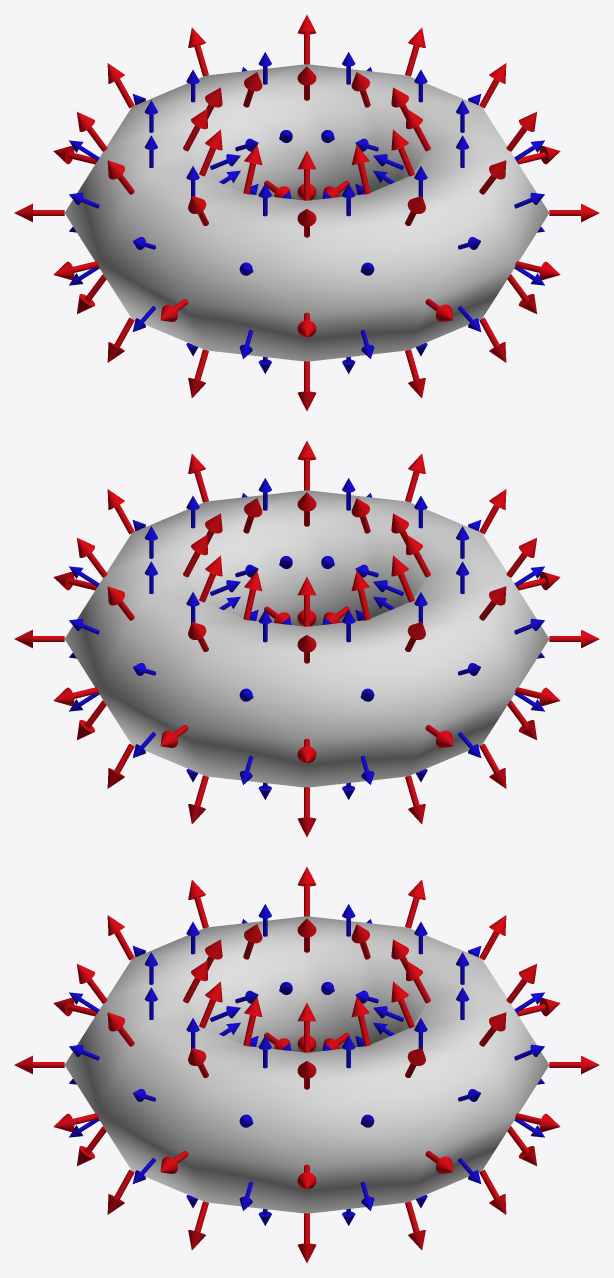
3 views of the same model, one above another, from view 1: azimuth 30°, elevation 25°; view 2: azimuth 150°, elevation 25°; view 3: azimuth 270°, elevation 25° (orthographic).
Visible parts, largest first — view 1: Cube.002; view 2: Cube.002; view 3: Cube.002.
Part boxes in pixels (bbox=[...]): Cube.002: bbox=[14, 15, 599, 410]; Cube.002: bbox=[14, 441, 599, 836]; Cube.002: bbox=[14, 867, 599, 1262].
Bounding box in the file's own units: 4.64 × 1.83 × 4.64.
